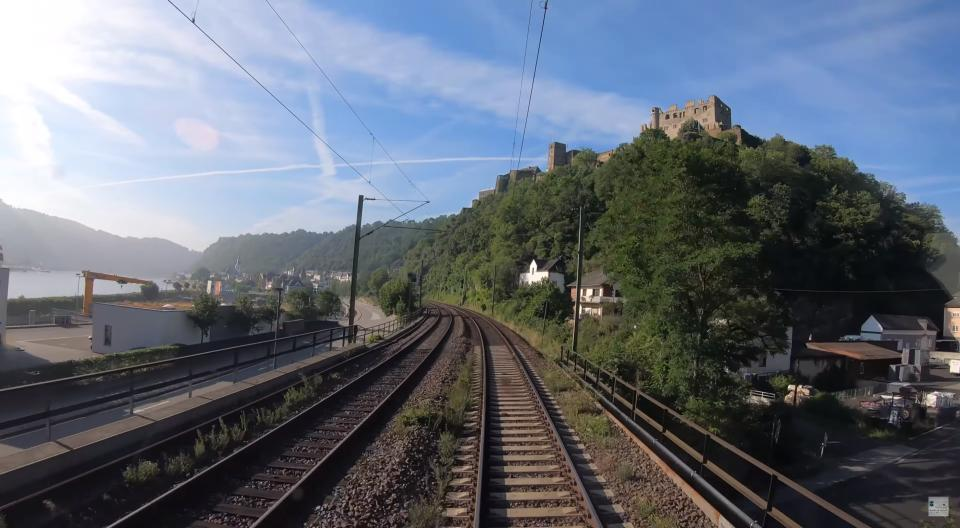Plant: (122, 374, 322, 485), (397, 352, 474, 432), (560, 390, 616, 447), (432, 431, 460, 495), (632, 496, 678, 528), (535, 366, 578, 394), (406, 499, 443, 528), (616, 463, 636, 482), (596, 456, 616, 471), (330, 372, 342, 381)
